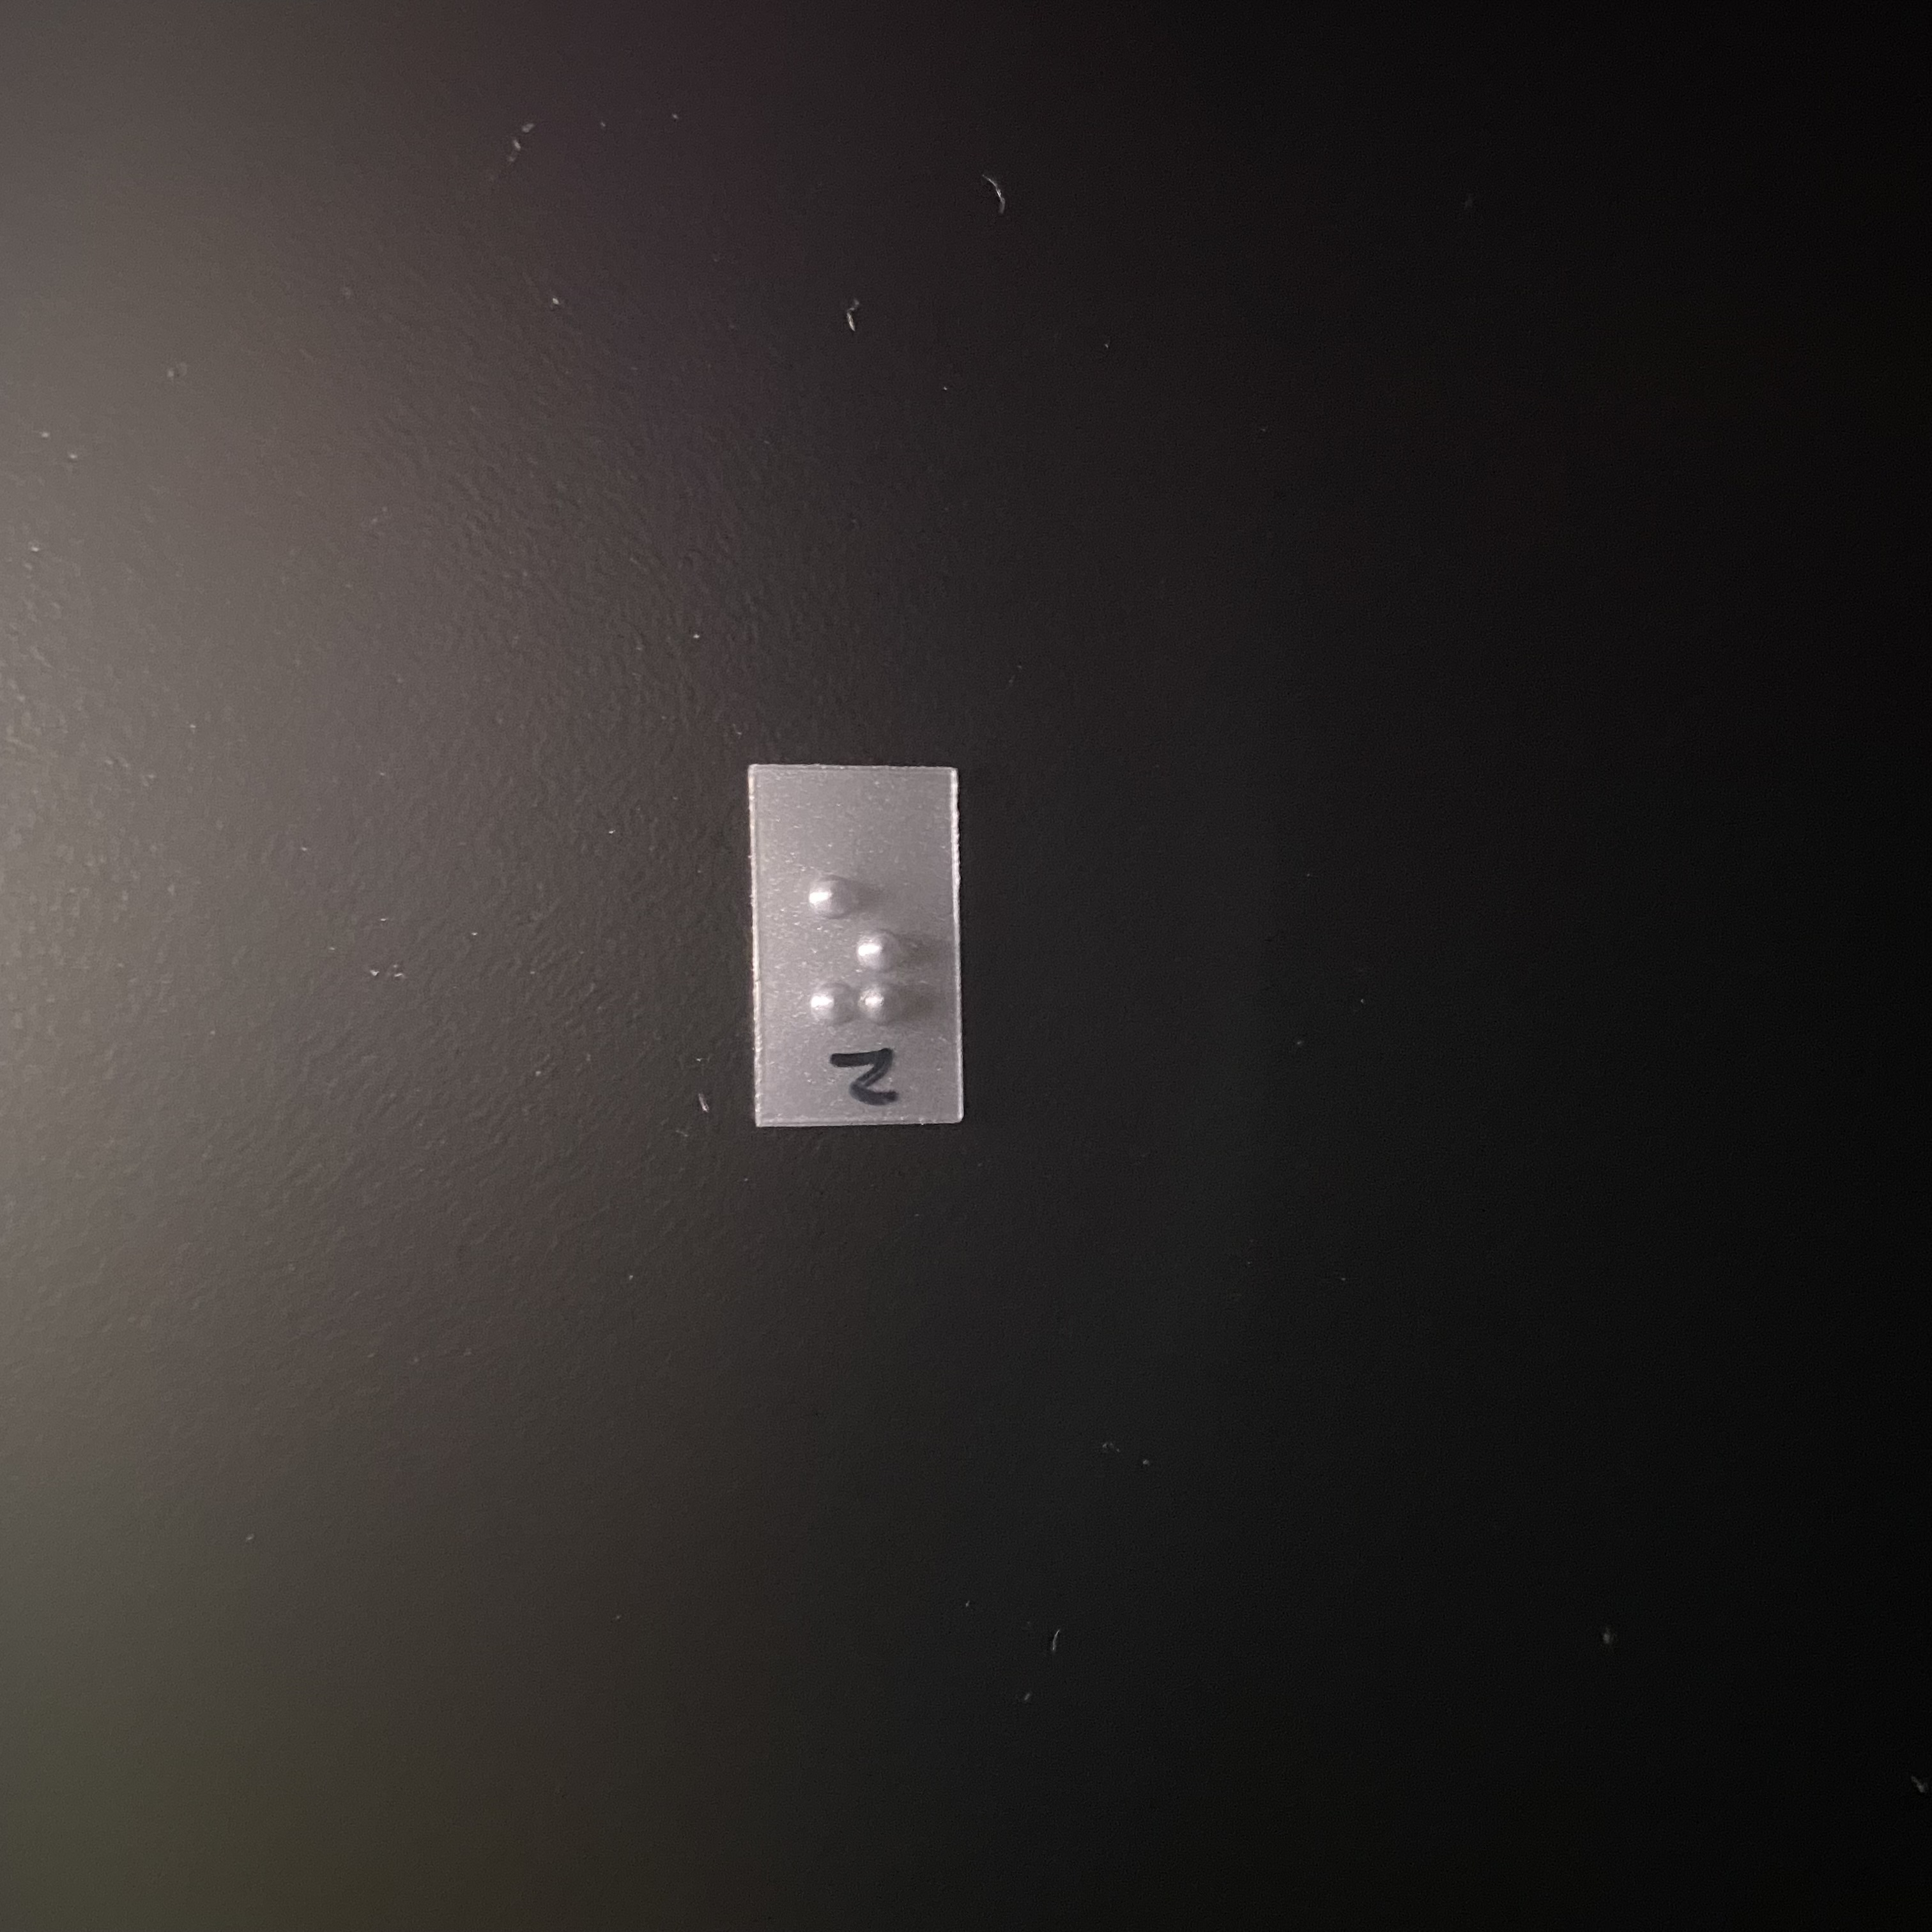z: (789, 861, 937, 1027)
